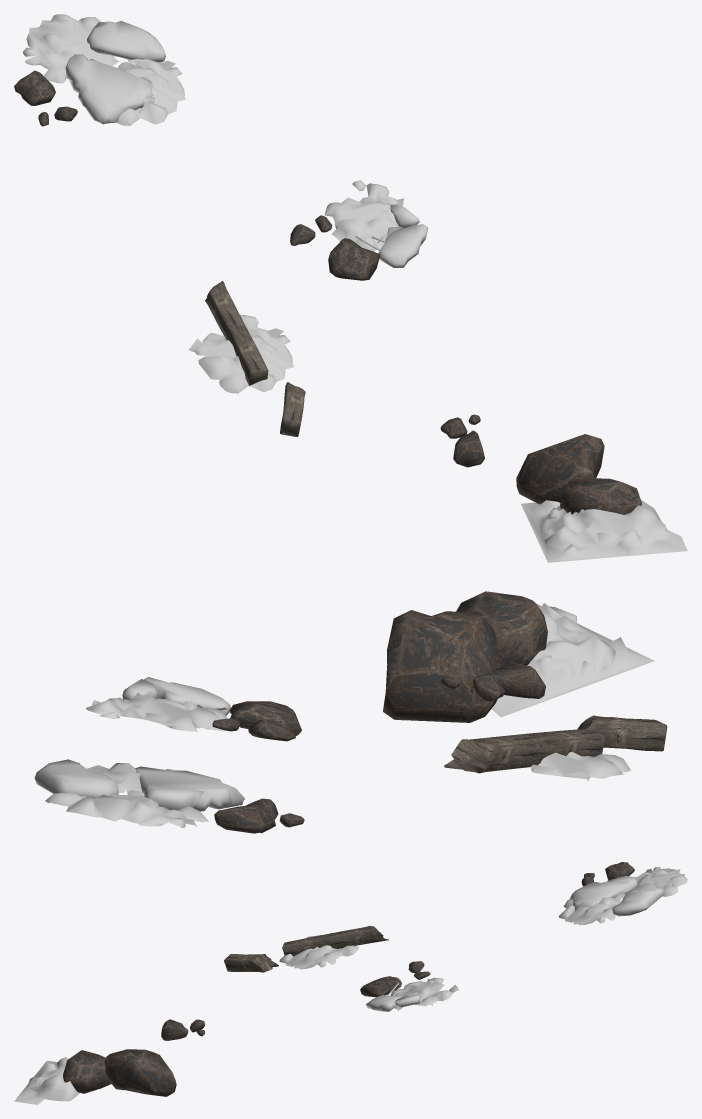
File: ramp_rough_terrain.dae
The picture shows the model from 3 angles, top to bottom: view 1: azimuth 30°, elevation 25°; view 2: azimuth 150°, elevation 25°; view 3: azimuth 270°, elevation 25°; orthographic projection. The views are drawn at different scales.
Visible parts, largest first — view 1: RockPile, Rocks, Concrete, Wood; view 2: Rocks, RockPile, Concrete, Wood; view 3: Rocks, RockPile, Concrete, Wood.
Boxes of the visible parts, x1,y1,x2,y2 form: RockPile: (23,14,687,562); Rocks: (14,70,641,514); Concrete: (65,21,428,267); Wood: (205,281,305,436); Rocks: (212,591,547,833); RockPile: (45,603,654,828); Concrete: (34,677,244,811); Wood: (444,715,667,773); Rocks: (63,862,634,1096); RockPile: (14,867,687,1104); Concrete: (366,876,663,1011); Wood: (224,926,388,972).
Bounding box in the file's own units: 623 × 1781 × 492.
